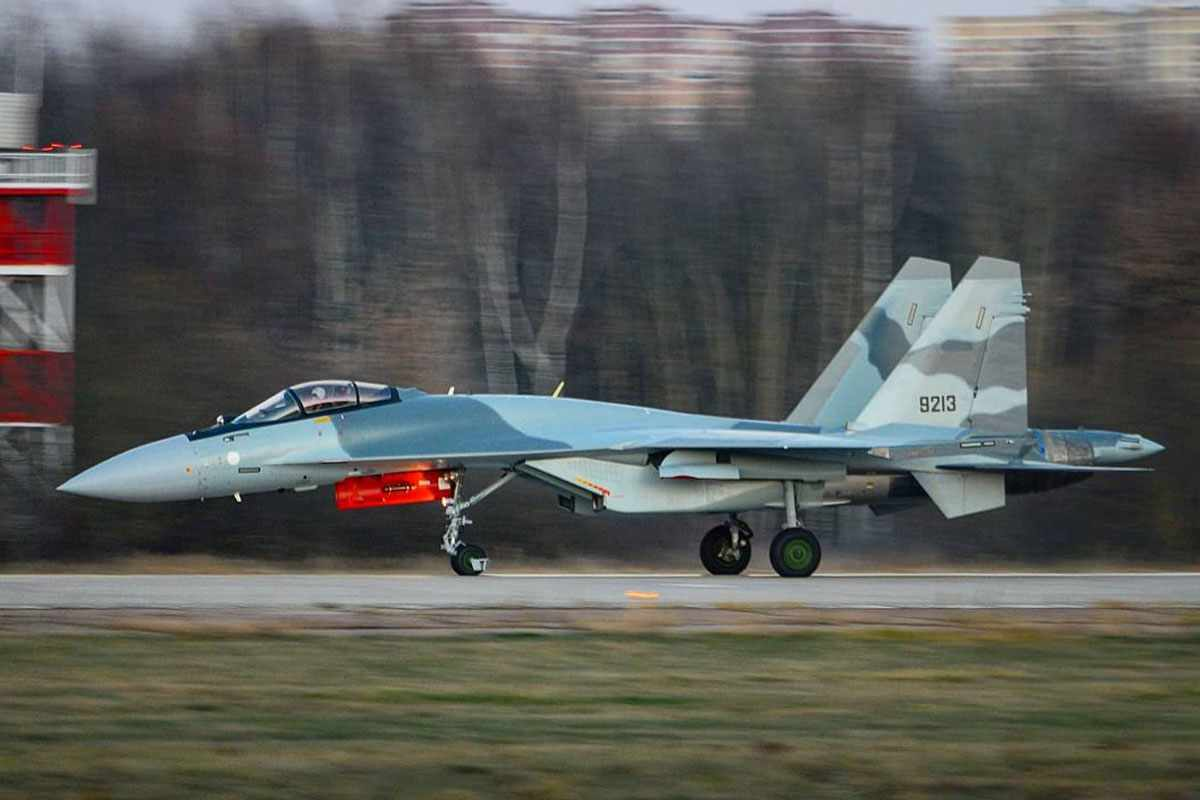Su35: (51, 249, 1174, 588)
